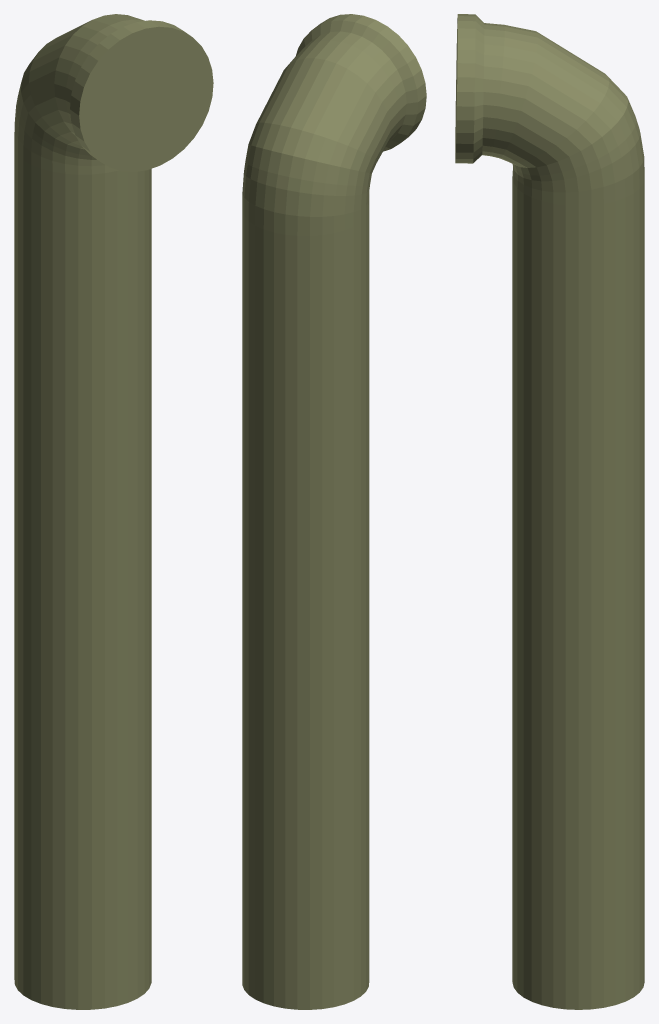
Rendered from column_high.fbx.
3 renders of one model, left to right at view 1: azimuth 30°, elevation 25°; view 2: azimuth 150°, elevation 25°; view 3: azimuth 270°, elevation 25°, orthographic. The views are drawn at different scales.
Parts seen in each view (by area): view 1: Cylinder; view 2: Cylinder; view 3: Cylinder.
Part boxes in pixels (x1,y1,x2,y2): Cylinder: [14, 14, 213, 1009]; Cylinder: [242, 14, 426, 1009]; Cylinder: [455, 14, 644, 1009].
Size of the model in its own units: 226 by 1603 by 286.
